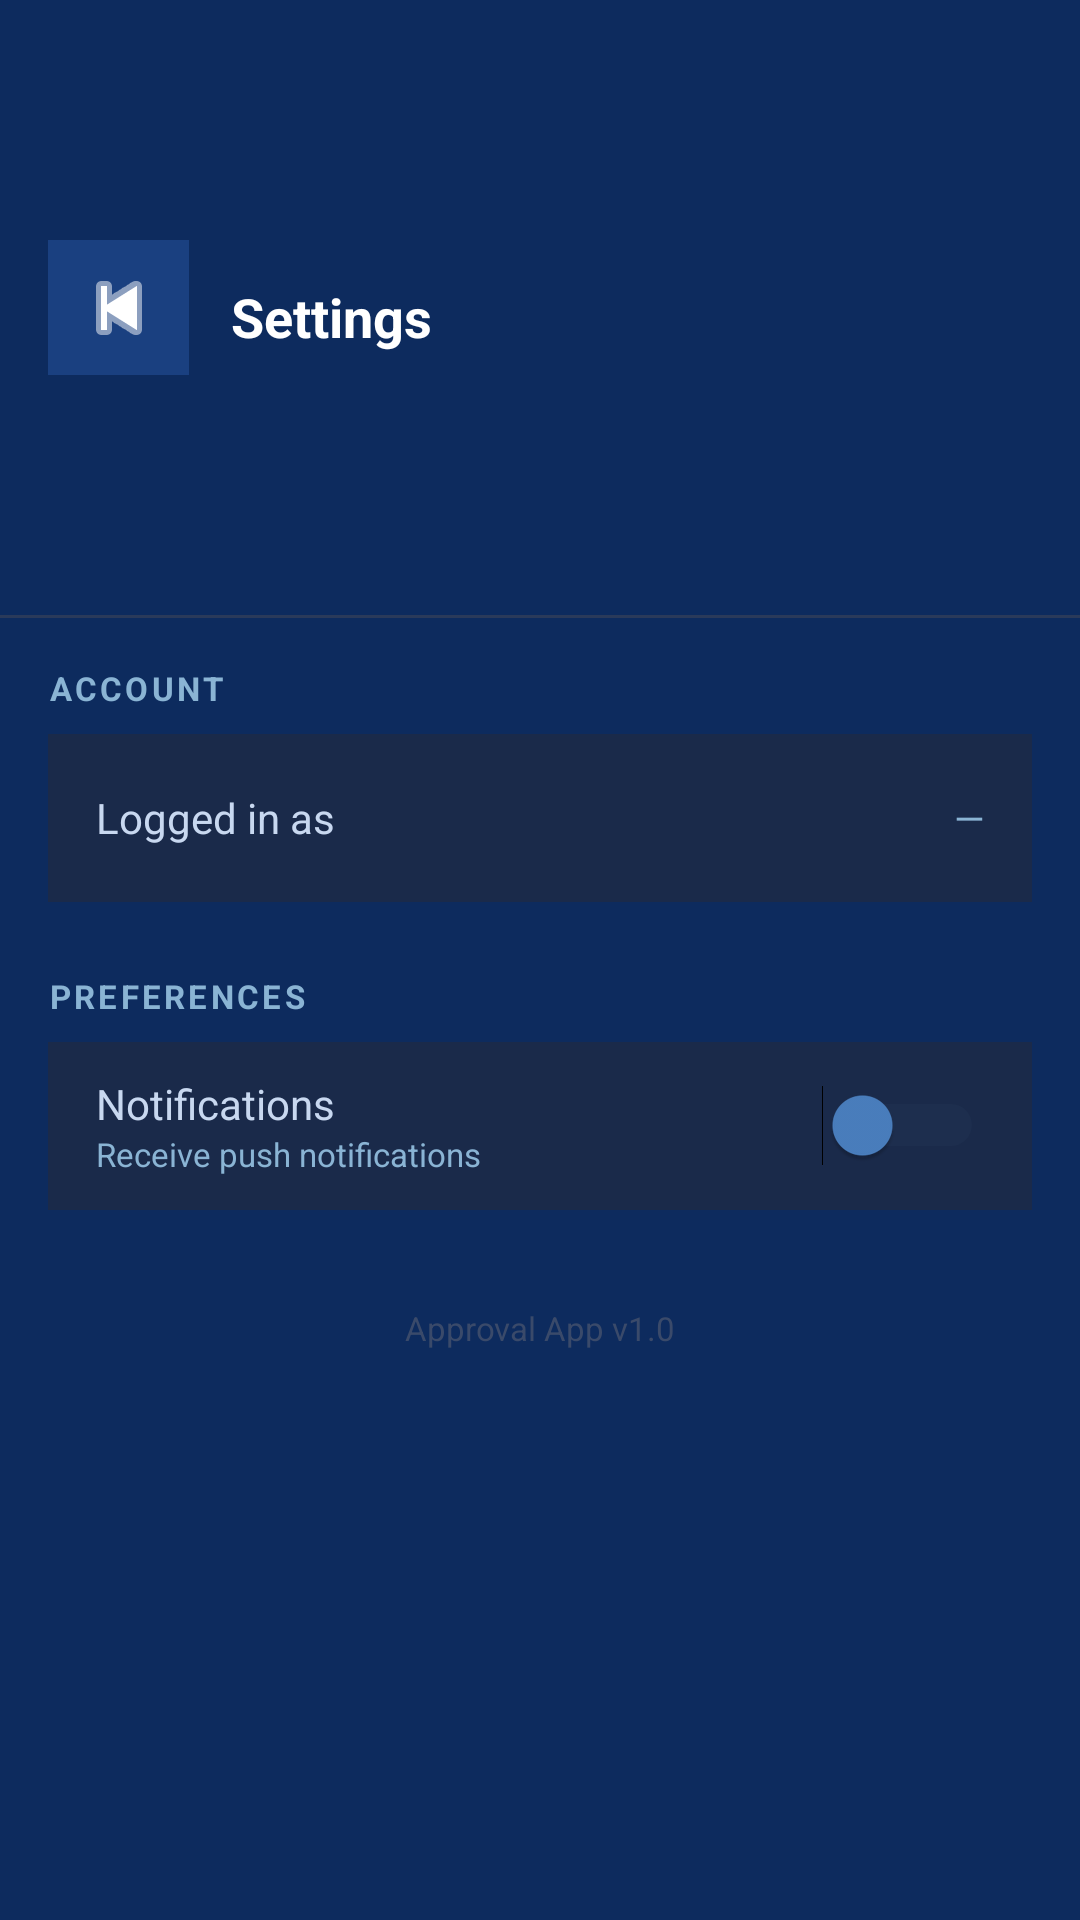

Icons on this 1080*1920 Android screen, each with the point to tap as [x,y]:
Back: [118,307]
